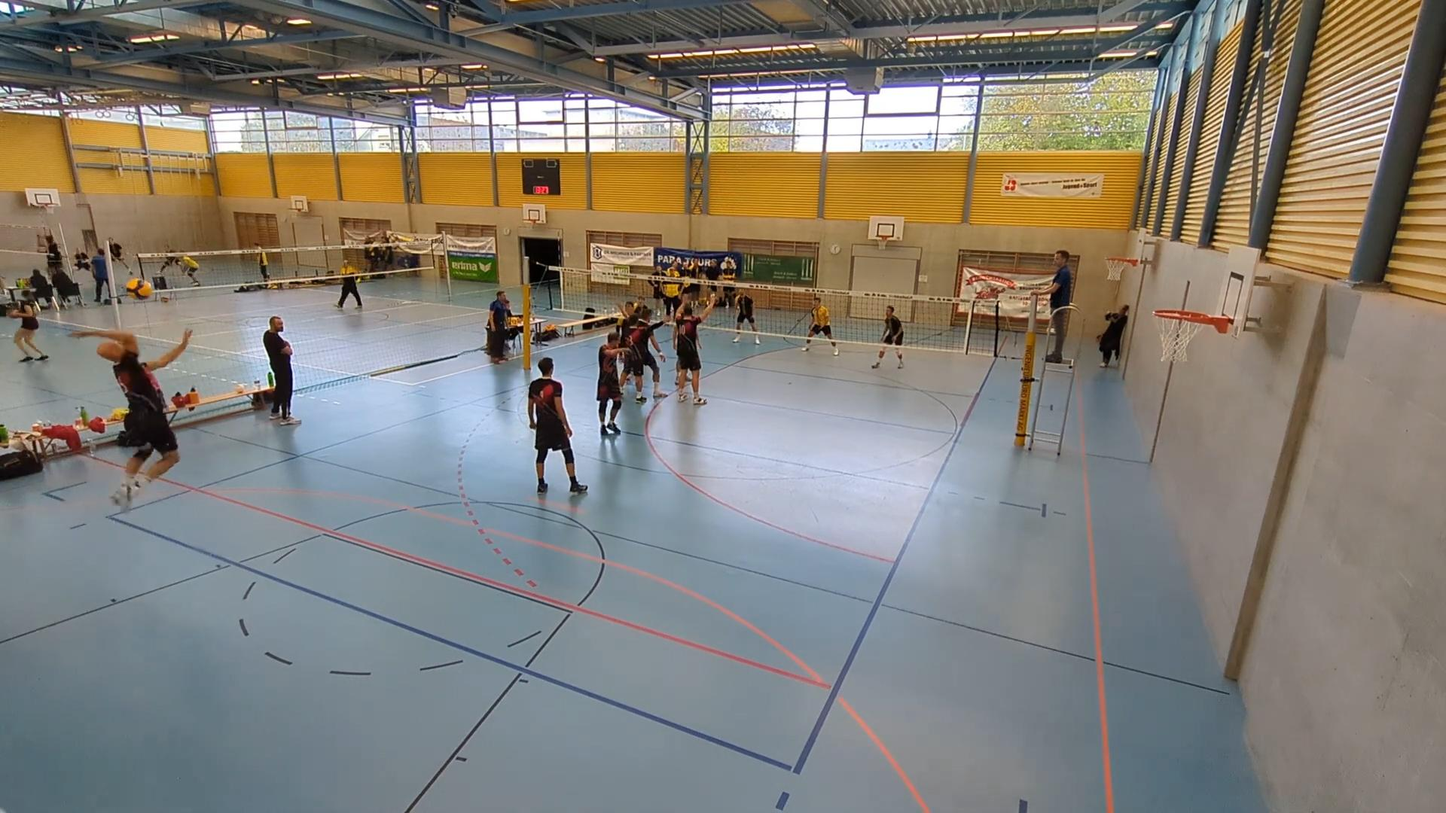Player: (528, 357, 587, 493), (675, 298, 716, 405), (623, 306, 666, 403), (596, 330, 627, 436), (802, 297, 839, 355), (871, 306, 905, 369), (733, 289, 760, 344), (613, 301, 639, 349)
Serve: (66, 319, 198, 516)
ball: (127, 279, 160, 296)
